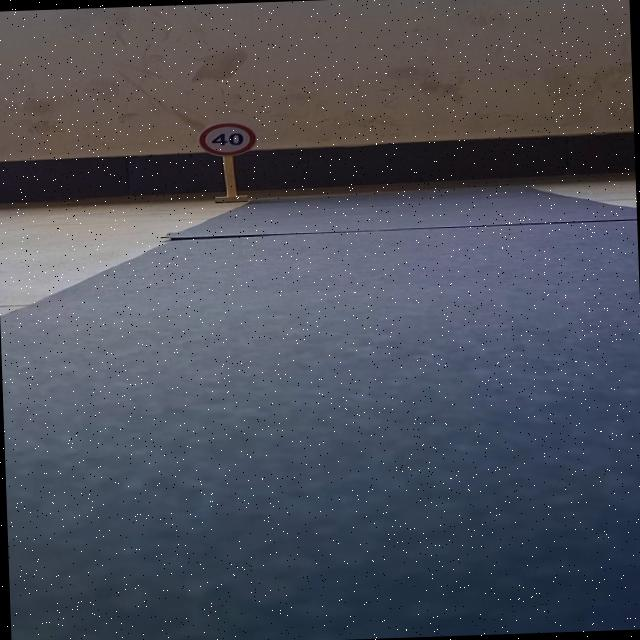Speed40: (190, 116, 260, 158)
